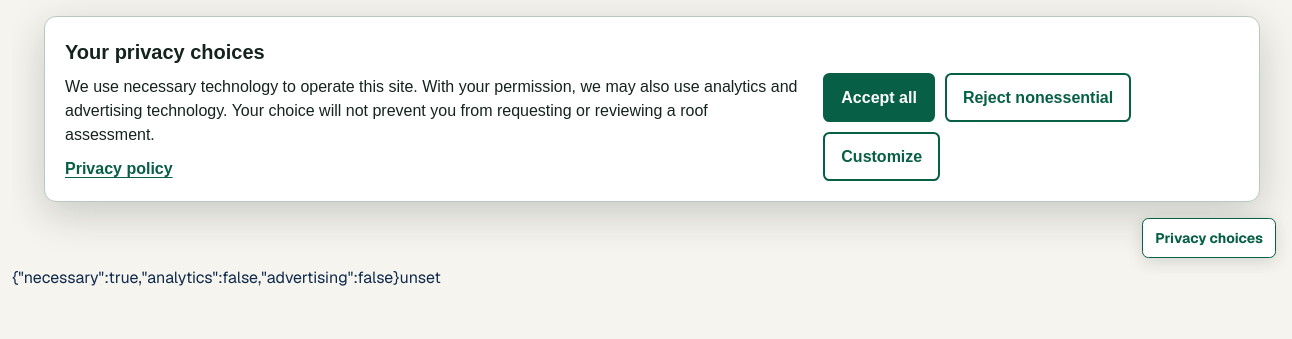
Test: PrivacyConsentProvider › keeps the choices available and announces a failed save
The width and height of the screenshot is (1292, 339).
Click the button "Accept all". click: (879, 98)
box: [823,73,935,122]
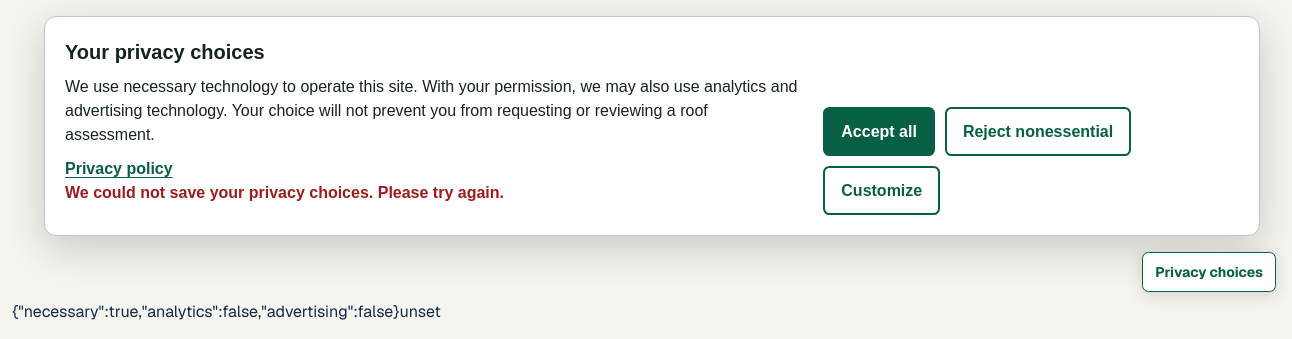
Expected: the button "Accept all" is shown, [823,107,935,156]
Now the message reads "We could not save your privacy choices. Please try again.", box [65,184,504,201]
